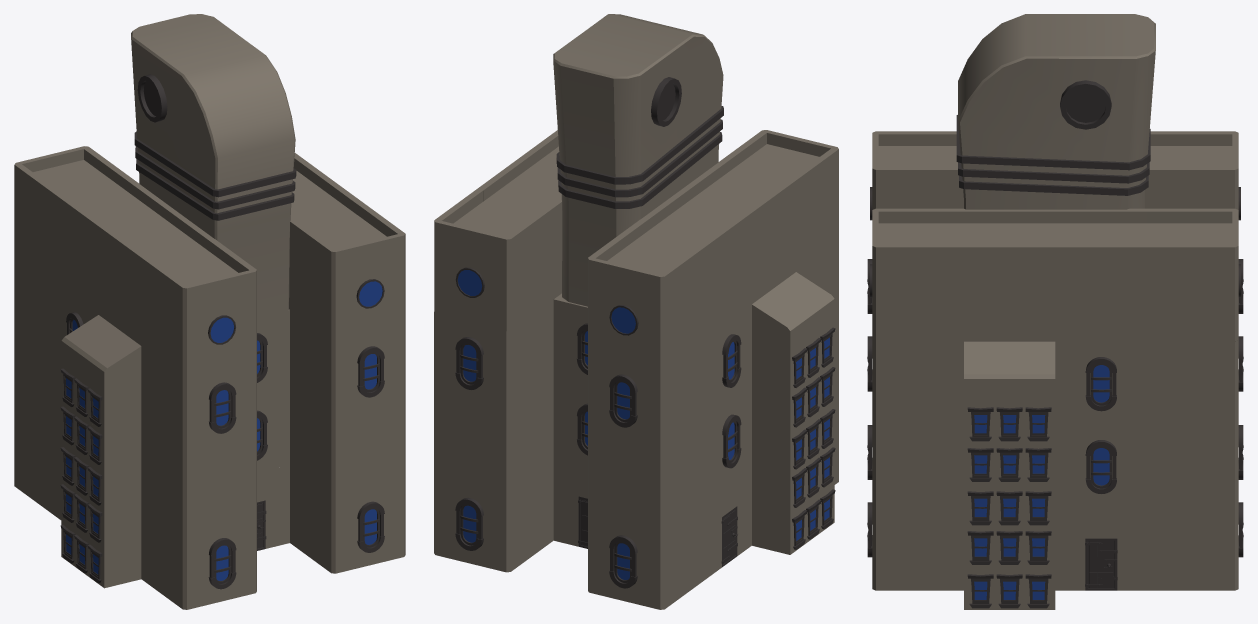
The model's file is Batiment_02.FBX.
3 views of the same model, side by side, from view 1: azimuth 30°, elevation 25°; view 2: azimuth 150°, elevation 25°; view 3: azimuth 270°, elevation 25° (orthographic). The views are drawn at different scales.
Parts seen in each view (by area): view 1: Batiment_02_LOD0; view 2: Batiment_02_LOD0; view 3: Batiment_02_LOD0.
Part boxes in pixels (x1=…): Batiment_02_LOD0: x1=14, y1=14, x2=405, y2=609; Batiment_02_LOD0: x1=434, y1=14, x2=838, y2=609; Batiment_02_LOD0: x1=867, y1=14, x2=1243, y2=609.
Size of the model in its own units: 1629 by 2400 by 1643.
